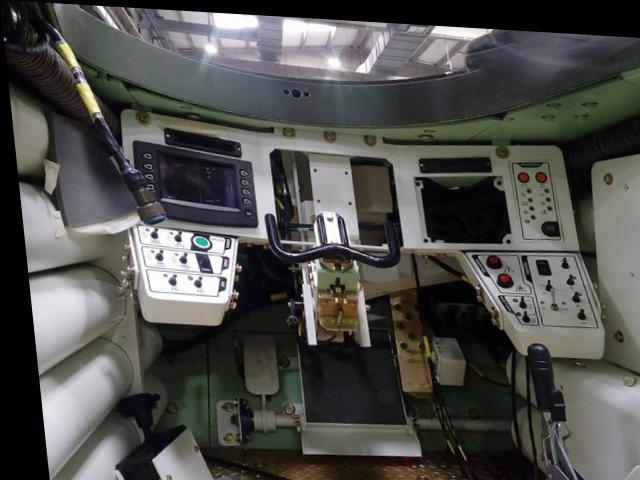tank: (11, 12, 640, 480)
